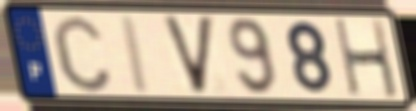8: (284, 18, 335, 97)
9: (226, 16, 281, 98)
C: (48, 12, 115, 95)
H: (331, 17, 401, 101)
I: (117, 13, 153, 97)
V: (159, 13, 217, 98)
